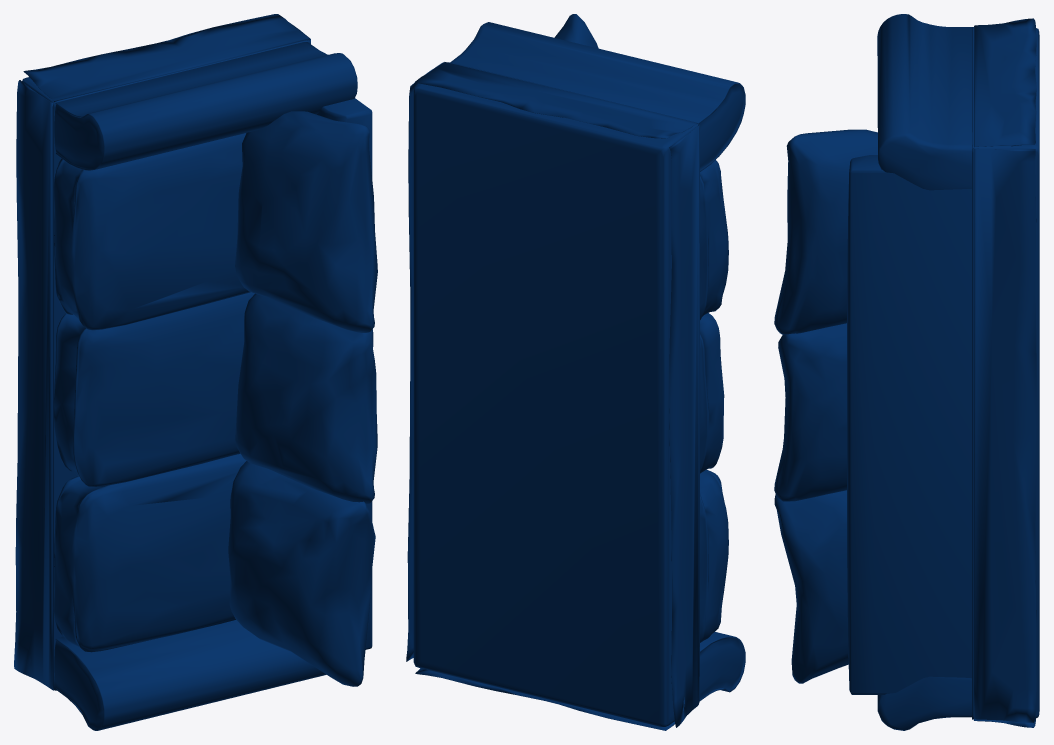
Rendered from blue_sofa.obj.
3 renders of one model, left to right at view 1: azimuth 30°, elevation 25°; view 2: azimuth 150°, elevation 25°; view 3: azimuth 270°, elevation 25°, orthographic. The views are drawn at different scales.
Parts seen in each view (by area): view 1: Casual_Sofa_Denim_V1; view 2: Casual_Sofa_Denim_V1; view 3: Casual_Sofa_Denim_V1.
Boxes of the visible parts, left/top/right/bottom form: Casual_Sofa_Denim_V1: left=14, top=14, right=377, bottom=730; Casual_Sofa_Denim_V1: left=406, top=14, right=745, bottom=730; Casual_Sofa_Denim_V1: left=774, top=14, right=1039, bottom=730.
Bounding box in the file's own units: 1.07 × 2.28 × 0.9186.
